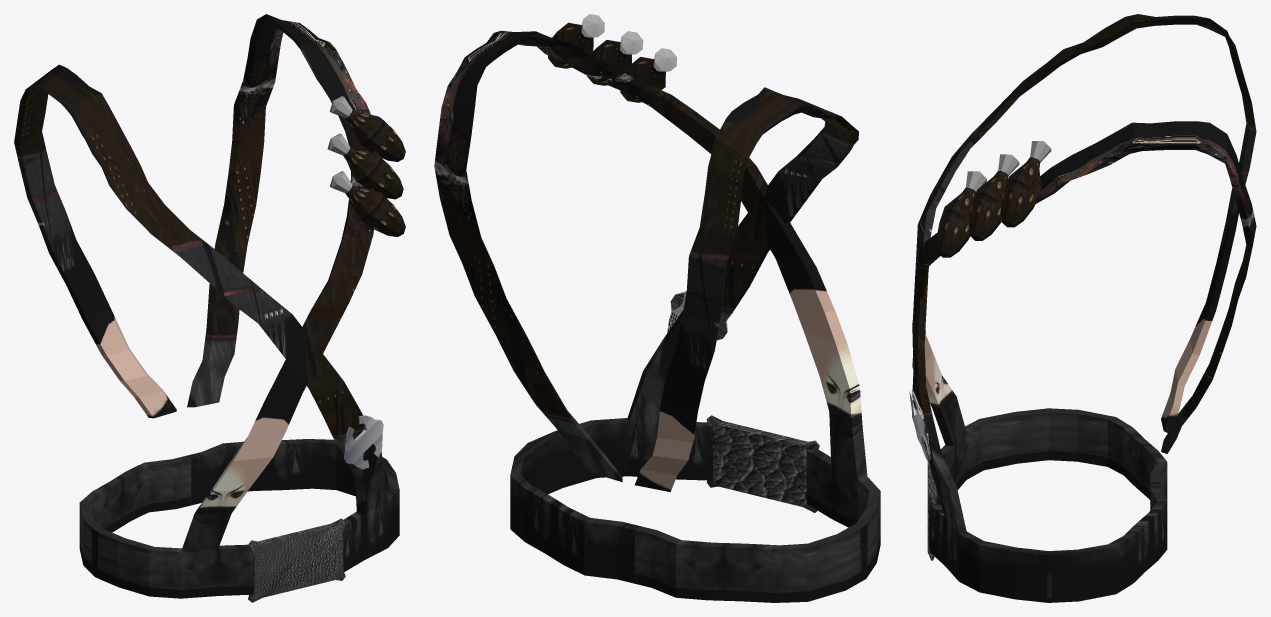
Rendered from BELT.fbx.
3 views of the same model, side by side, from view 1: azimuth 30°, elevation 25°; view 2: azimuth 150°, elevation 25°; view 3: azimuth 270°, elevation 25° (orthographic). The views are drawn at different scales.
Visible parts, largest first — view 1: pCube22; view 2: pCube22; view 3: pCube22.
Boxes of the visible parts, x1,y1,x2,y2 form: pCube22: (14, 14, 405, 602); pCube22: (434, 14, 880, 602); pCube22: (909, 14, 1256, 602).
Size of the model in its own units: 29.97 by 44.58 by 29.92.
Materials: 4 (3 with a texture image).
